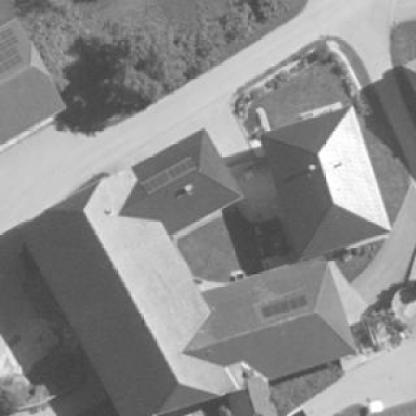solar-pv-panel: (140, 157, 197, 194), (261, 294, 308, 319), (0, 28, 24, 73)
